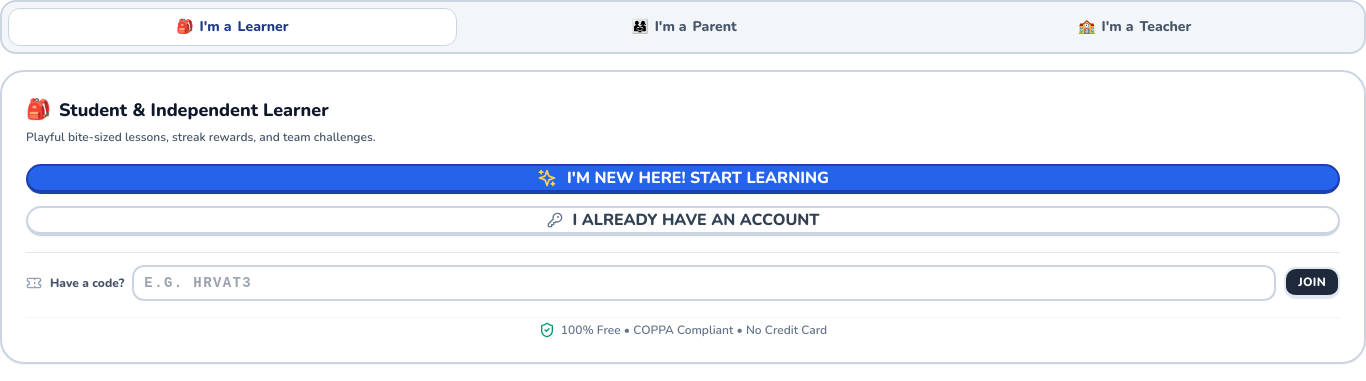
<RoleOnboardingHero /> CR-075 Role-Aware Landing Page Hero Tests › Signed-Out Mode & Role Chooser › switches to Teacher role view when Teacher pill is clicked
Click the button "🏫 I'm a Teacher": (1135, 27) [911,9,1358,45]
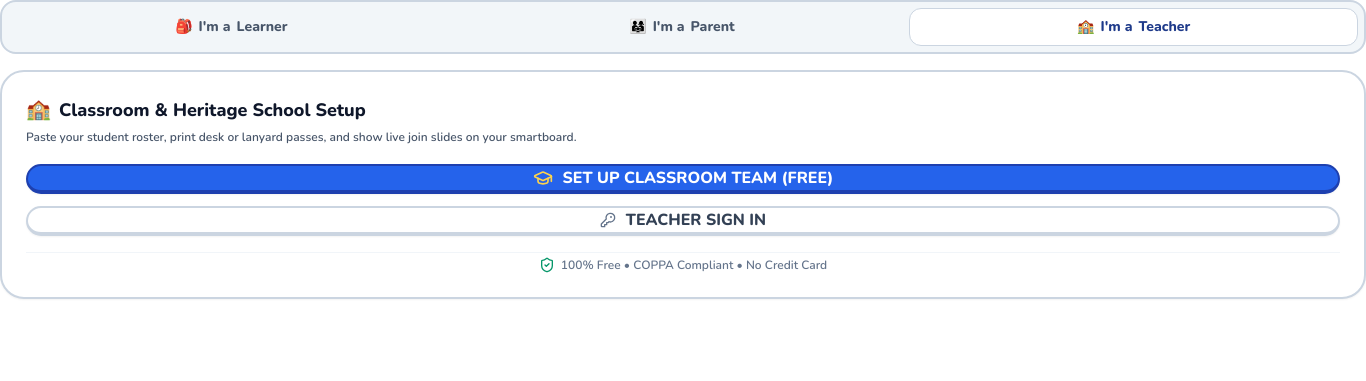
Expected: the heading "Classroom & Heritage School Setup" is shown, [59,96,366,124]
Expected: the text "Paste your student roster, print desk or lanyard passes" is shown, [26,129,577,145]
